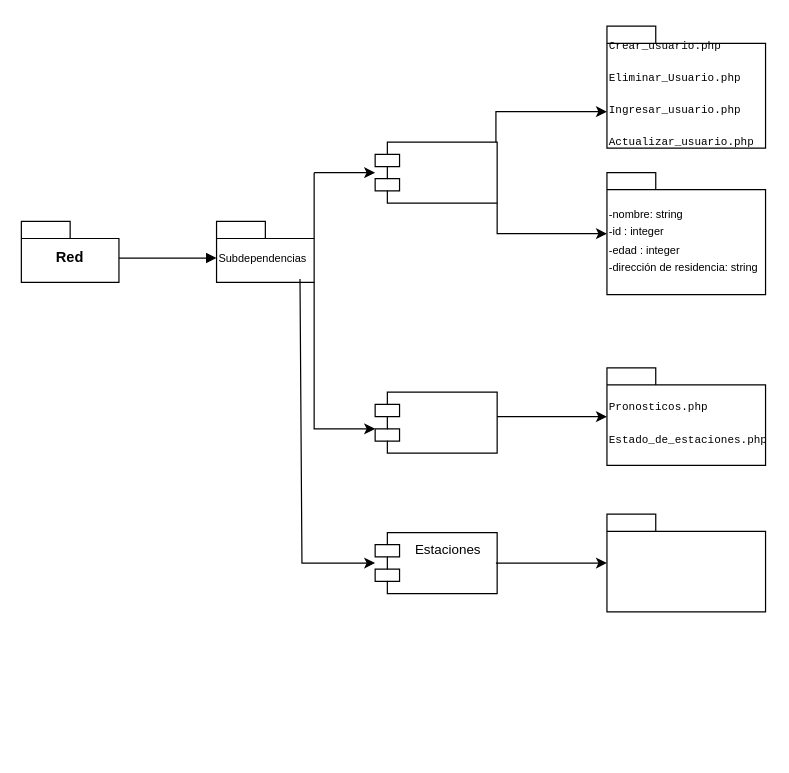
Some shapes in this 789 by 773 pixel diagram are drawn without their labels. Each missing label, with the centre of its shape:
"Estaciones_de_campo.php Centros_de_control.php Plantas_de_energia.php" belongs at pixel 686 562.
"Monitoreo y reporte" belongs at pixel 435 422.
"Usuarios" belongs at pixel 435 172.
